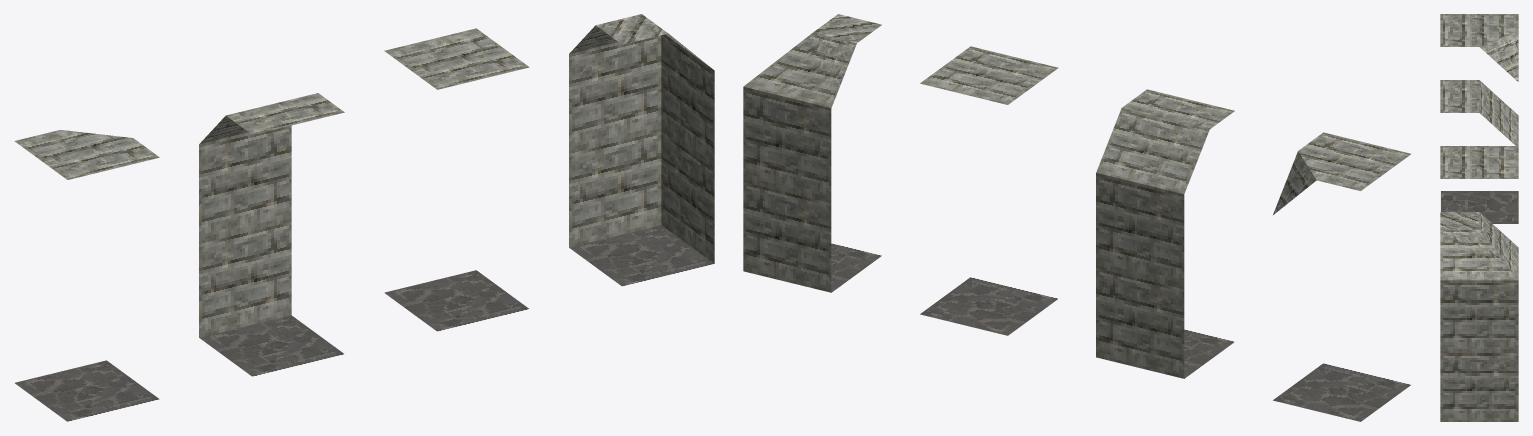
File: dungeon-tileset.glb
The picture shows the model from 3 angles, left to right: view 1: azimuth 30°, elevation 25°; view 2: azimuth 150°, elevation 25°; view 3: azimuth 270°, elevation 25°; orthographic projection. The views are drawn at different scales.
Visible parts, largest first — view 1: corner_in-col, wall-col, floor-col, corner_out-col; view 2: wall-col, corner_in-col, corner_out-col, floor-col; view 3: corner_in-col, corner_out-col, wall-col, floor-col.
Boxes of the visible parts, x1,y1,x2,y2 form: corner_in-col: (569,14,714,286); wall-col: (199,93,344,376); floor-col: (384,28,529,331); corner_out-col: (14,130,159,421); wall-col: (1096,89,1234,378); corner_in-col: (743,14,881,292); corner_out-col: (1273,132,1411,421); floor-col: (920,46,1058,335); corner_in-col: (1440,212,1518,421); corner_out-col: (1440,14,1518,223); wall-col: (1440,80,1518,145); floor-col: (1440,146,1518,178).
Bounding box in the file's own units: 7 × 2.5 × 1.
Materials: 1 (1 with a texture image).
